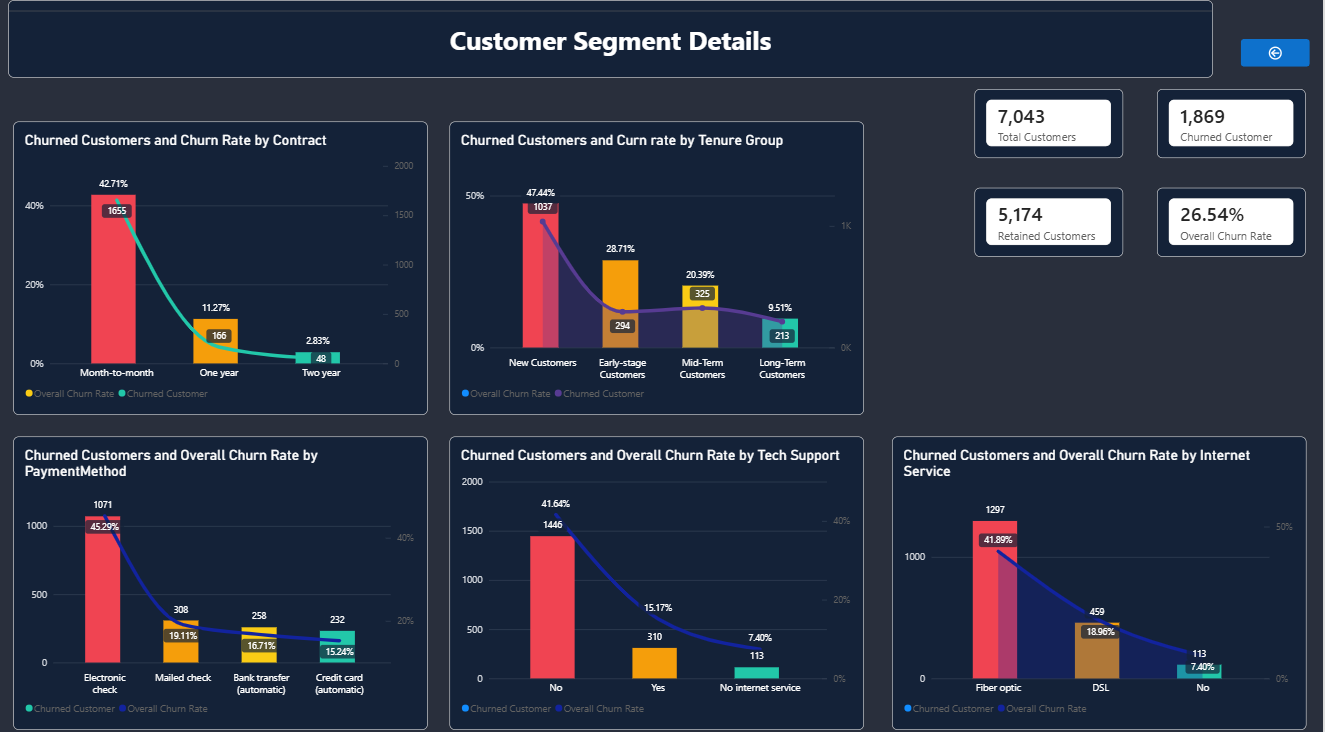

What the dashboard file says about the page in this screenshot:
{"tool":"powerbi","page":{"name":"Customer Segment Details","canvas":[1920,1080],"ordinal":3},"visuals":[{"type":"actionButton","box":[1800,72,100,40],"z":0},{"type":"textbox","box":[16,16,1744,112],"z":2},{"type":"cardVisual","fields":{"Data":["customer_churn_cleaned.Total Customers"]},"box":[1416,144,215,100],"z":3},{"type":"cardVisual","fields":{"Data":["customer_churn_cleaned.Retained Customers"]},"box":[1416,288,215,100],"z":4},{"type":"cardVisual","fields":{"Data":["customer_churn_cleaned.Churned Customer"]},"box":[1680,144,215,100],"z":5},{"type":"cardVisual","fields":{"Data":["customer_churn_cleaned.Overall Churn Rate"]},"box":[1680,288,215,100],"z":6},{"type":"lineClusteredColumnComboChart","title":"Churned Customers and Churn Rate by Contract","fields":{"Category":["customer_churn_cleaned.Contract"],"Y":["customer_churn_cleaned.Overall Churn Rate"],"Y2":["customer_churn_cleaned.Churned Customer"]},"box":[24,192,600,425],"z":7},{"type":"lineStackedColumnComboChart","title":"Churned Customers and Curn rate by Tenure Group","fields":{"Category":["customer_churn_cleaned.Tenure Group"],"Y":["customer_churn_cleaned.Overall Churn Rate"],"Y2":["customer_churn_cleaned.Churned Customer"]},"box":[656,192,600,425],"z":8},{"type":"lineStackedColumnComboChart","title":"Churned Customers and Overall Churn Rate by PaymentMethod","fields":{"Category":["customer_churn_cleaned.PaymentMethod"],"Y":["customer_churn_cleaned.Churned Customer"],"Y2":["customer_churn_cleaned.Overall Churn Rate"]},"box":[24,648,600,425],"z":9},{"type":"lineStackedColumnComboChart","title":"Churned Customers and Overall Churn Rate by Tech Support","fields":{"Category":["customer_churn_cleaned.TechSupport"],"Y":["customer_churn_cleaned.Churned Customer"],"Y2":["customer_churn_cleaned.Overall Churn Rate"]},"box":[656,648,600,425],"z":10},{"type":"lineClusteredColumnComboChart","title":"Churned Customers and Overall Churn Rate by Internet Service","fields":{"Category":["customer_churn_cleaned.InternetService"],"Y":["customer_churn_cleaned.Churned Customer"],"Y2":["customer_churn_cleaned.Overall Churn Rate"]},"box":[1296,648,600,425],"z":11}]}

Visuals, with their boxes in screenshot pixels (x1, y1, x2, y2), scaled from the page's 1920x1080 canvas onto the 1325x732 screenshot:
actionButton: bbox=[1242, 49, 1311, 76]
textbox: bbox=[11, 11, 1215, 87]
cardVisual - customer_churn_cleaned.Total Customers: bbox=[977, 98, 1126, 165]
cardVisual - customer_churn_cleaned.Retained Customers: bbox=[977, 195, 1126, 263]
cardVisual - customer_churn_cleaned.Churned Customer: bbox=[1159, 98, 1308, 165]
cardVisual - customer_churn_cleaned.Overall Churn Rate: bbox=[1159, 195, 1308, 263]
"Churned Customers and Churn Rate by Contract" lineClusteredColumnComboChart: bbox=[17, 130, 431, 418]
"Churned Customers and Curn rate by Tenure Group" lineStackedColumnComboChart: bbox=[453, 130, 867, 418]
"Churned Customers and Overall Churn Rate by PaymentMethod" lineStackedColumnComboChart: bbox=[17, 439, 431, 727]
"Churned Customers and Overall Churn Rate by Tech Support" lineStackedColumnComboChart: bbox=[453, 439, 867, 727]
"Churned Customers and Overall Churn Rate by Internet Service" lineClusteredColumnComboChart: bbox=[894, 439, 1308, 727]
